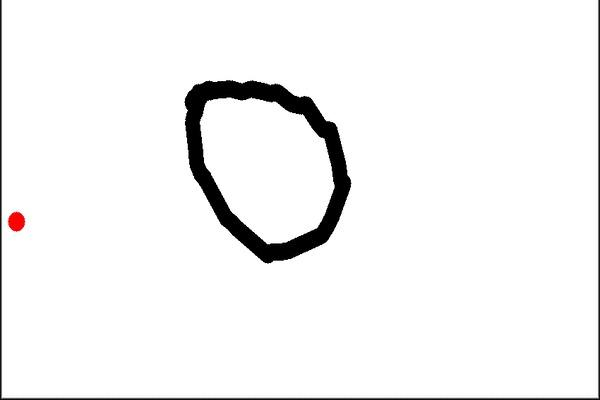O: (160, 63, 355, 272)
